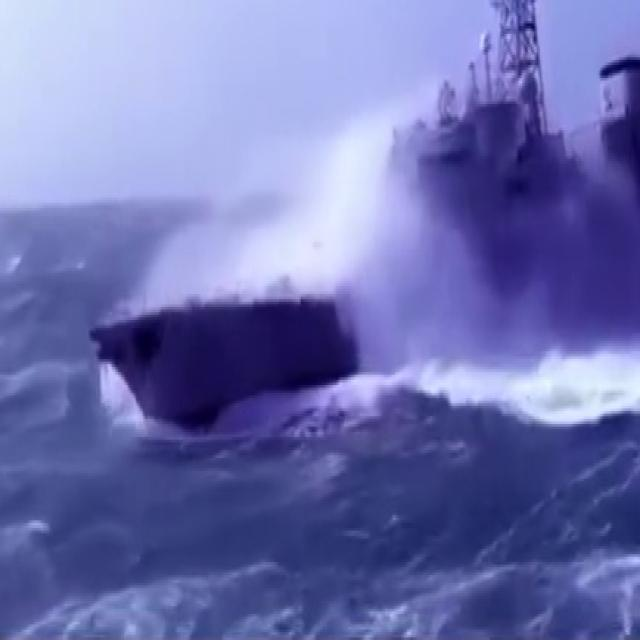houseboat: (87, 0, 640, 440)
